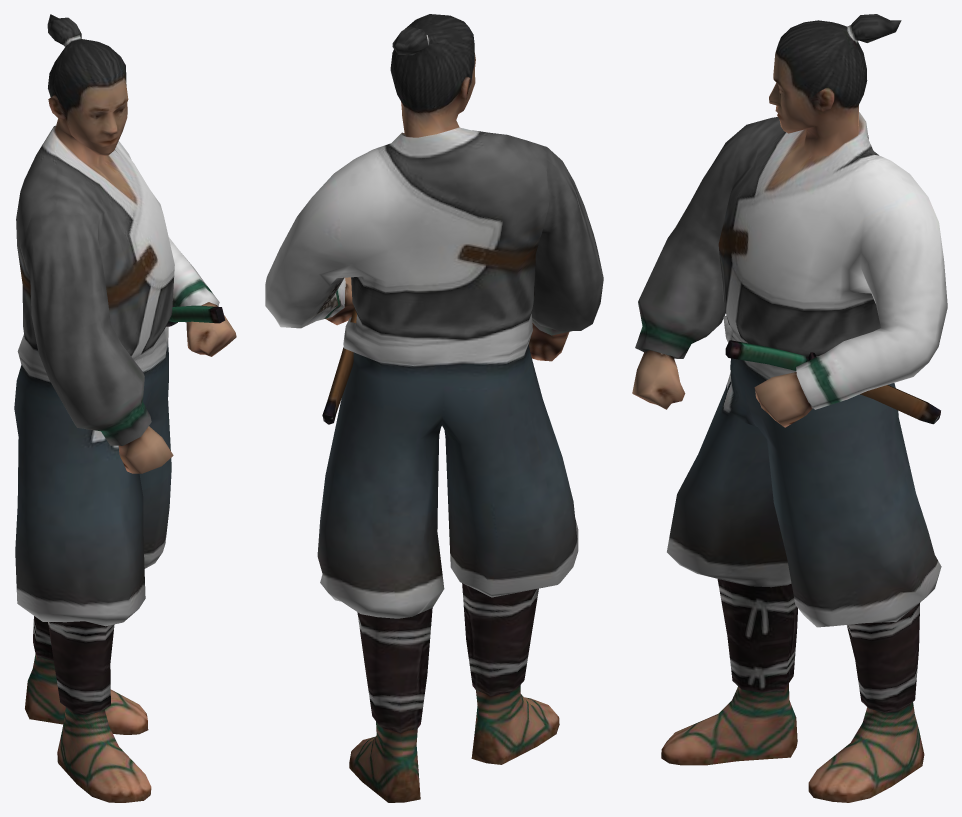
Rendered from body-base.glb.
The picture shows the model from 3 angles, left to right: view 1: azimuth 30°, elevation 25°; view 2: azimuth 150°, elevation 25°; view 3: azimuth 270°, elevation 25°; orthographic projection. The views are drawn at different scales.
Bounding box in the file's own units: 0.6902 × 2.08 × 0.7901.
Materials: 1 (1 with a texture image).
